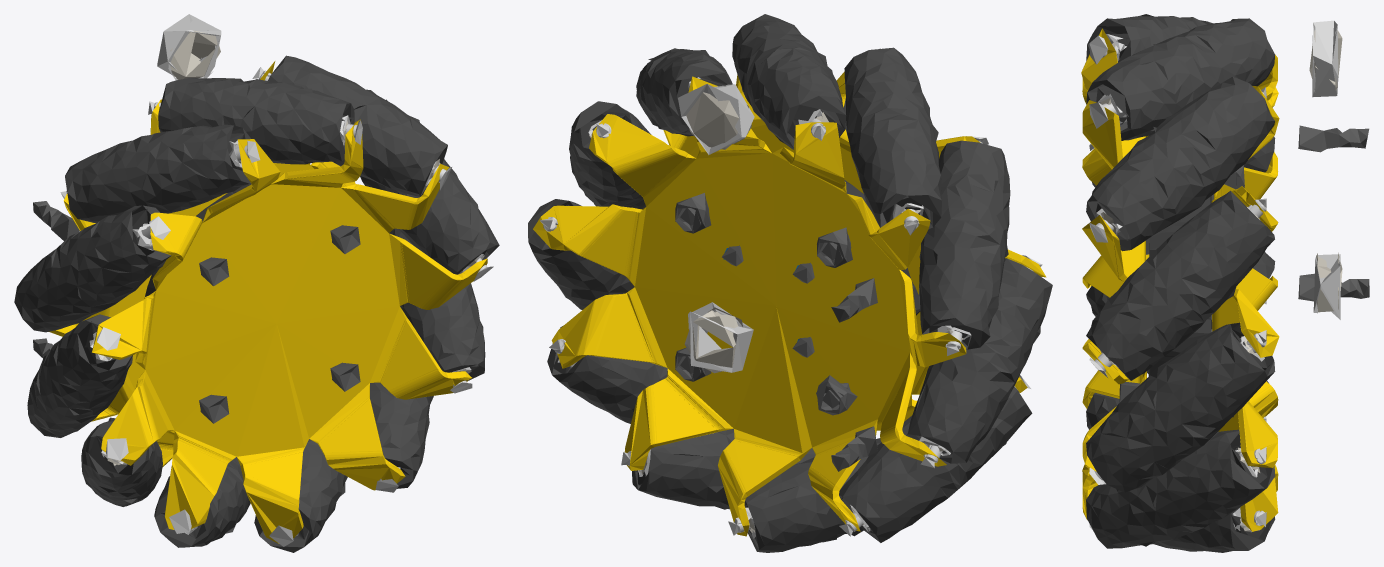
File: wheelFR.glb
The picture shows the model from 3 angles, left to right: view 1: azimuth 30°, elevation 25°; view 2: azimuth 150°, elevation 25°; view 3: azimuth 270°, elevation 25°; orthographic projection. The views are drawn at different scales.
Parts seen in each view (by area): view 1: wheelFR_3, wheelFR_0, wheelFR_2, wheelFR_1, wheelFR_4, wheelFR_5; view 2: wheelFR_3, wheelFR_0, wheelFR_2, wheelFR_1, wheelFR_5, wheelFR_4; view 3: wheelFR_0, wheelFR_3, wheelFR_2, wheelFR_1, wheelFR_4, wheelFR_5.
Boxes of the visible parts, bbox=[...] form: wheelFR_3: bbox=[49, 61, 487, 543]; wheelFR_0: bbox=[14, 55, 499, 552]; wheelFR_2: bbox=[60, 14, 493, 546]; wheelFR_1: bbox=[33, 201, 360, 423]; wheelFR_4: bbox=[78, 115, 487, 539]; wheelFR_5: bbox=[98, 30, 484, 530]; wheelFR_3: bbox=[533, 71, 1046, 536]; wheelFR_0: bbox=[528, 14, 1052, 552]; wheelFR_2: bbox=[540, 48, 1042, 538]; wheelFR_1: bbox=[675, 193, 877, 471]; wheelFR_5: bbox=[589, 85, 964, 532]; wheelFR_4: bbox=[532, 76, 970, 543]; wheelFR_0: bbox=[1086, 14, 1275, 552]; wheelFR_3: bbox=[1081, 28, 1279, 531]; wheelFR_2: bbox=[1089, 20, 1340, 530]; wheelFR_1: bbox=[1119, 125, 1369, 402]; wheelFR_4: bbox=[1095, 33, 1267, 538]; wheelFR_5: bbox=[1100, 30, 1342, 532].
Size of the model in its own units: 4.1 by 4.24 by 2.19.
